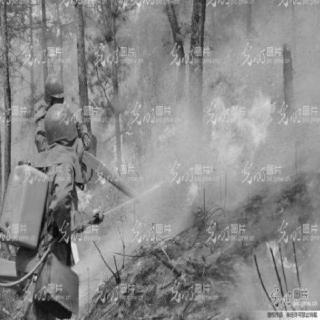Fire: (160, 81, 276, 201), (105, 107, 139, 175)
other: (0, 65, 94, 308), (94, 154, 138, 203)
